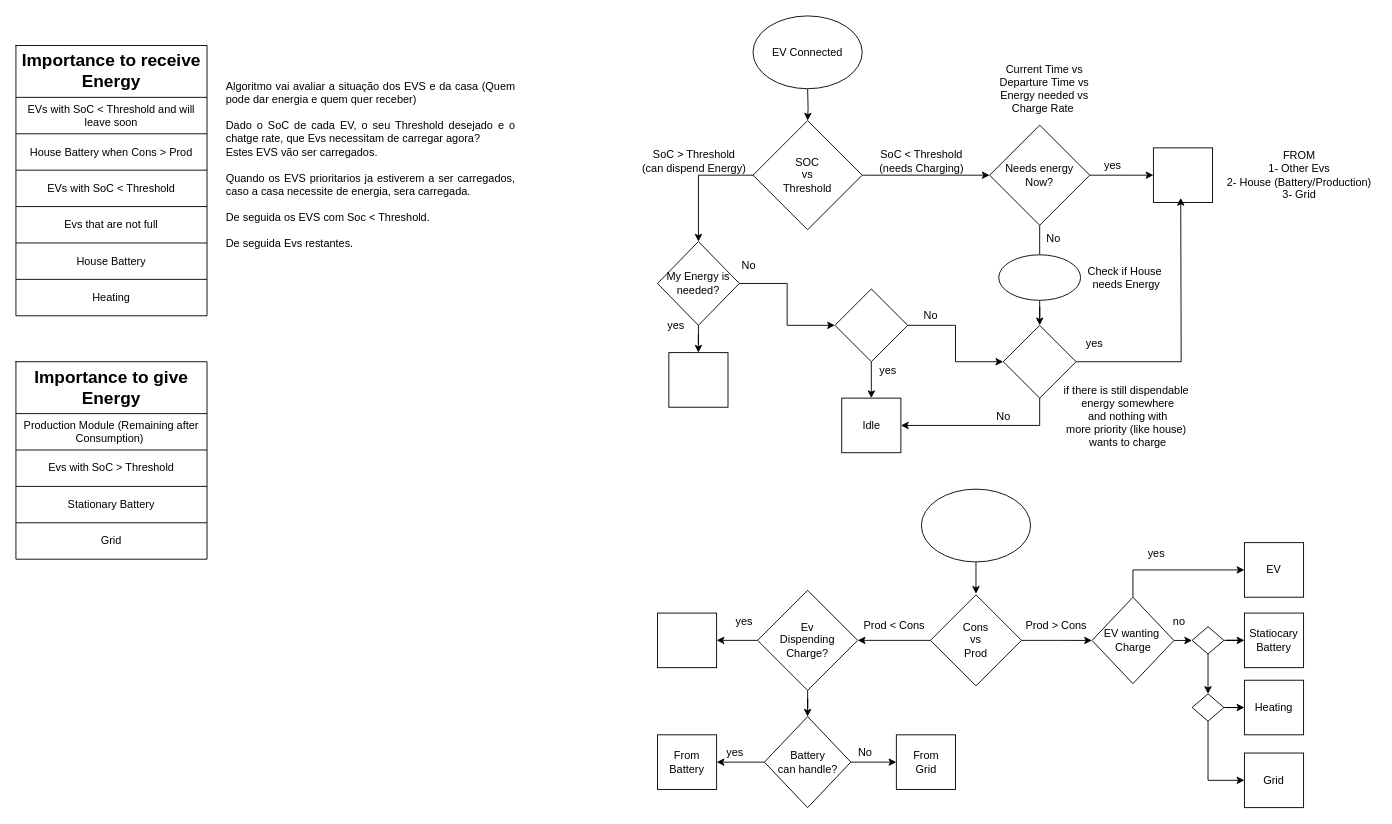
The diagram is 1392 pixels wide and 824 high, and some of its shapes have lost their labels. Here are the shapes that lost their labels. From the top down, the centre of each, then its label:
At (x=1183, y=174): "Charge".
At (x=1039, y=277): "Not Priority".
At (x=871, y=325): "Is Full?".
At (x=698, y=379): "Give Energy".
At (x=1039, y=361): "Can Charge?".
At (x=975, y=525): "House".
At (x=687, y=640): "From EV".
